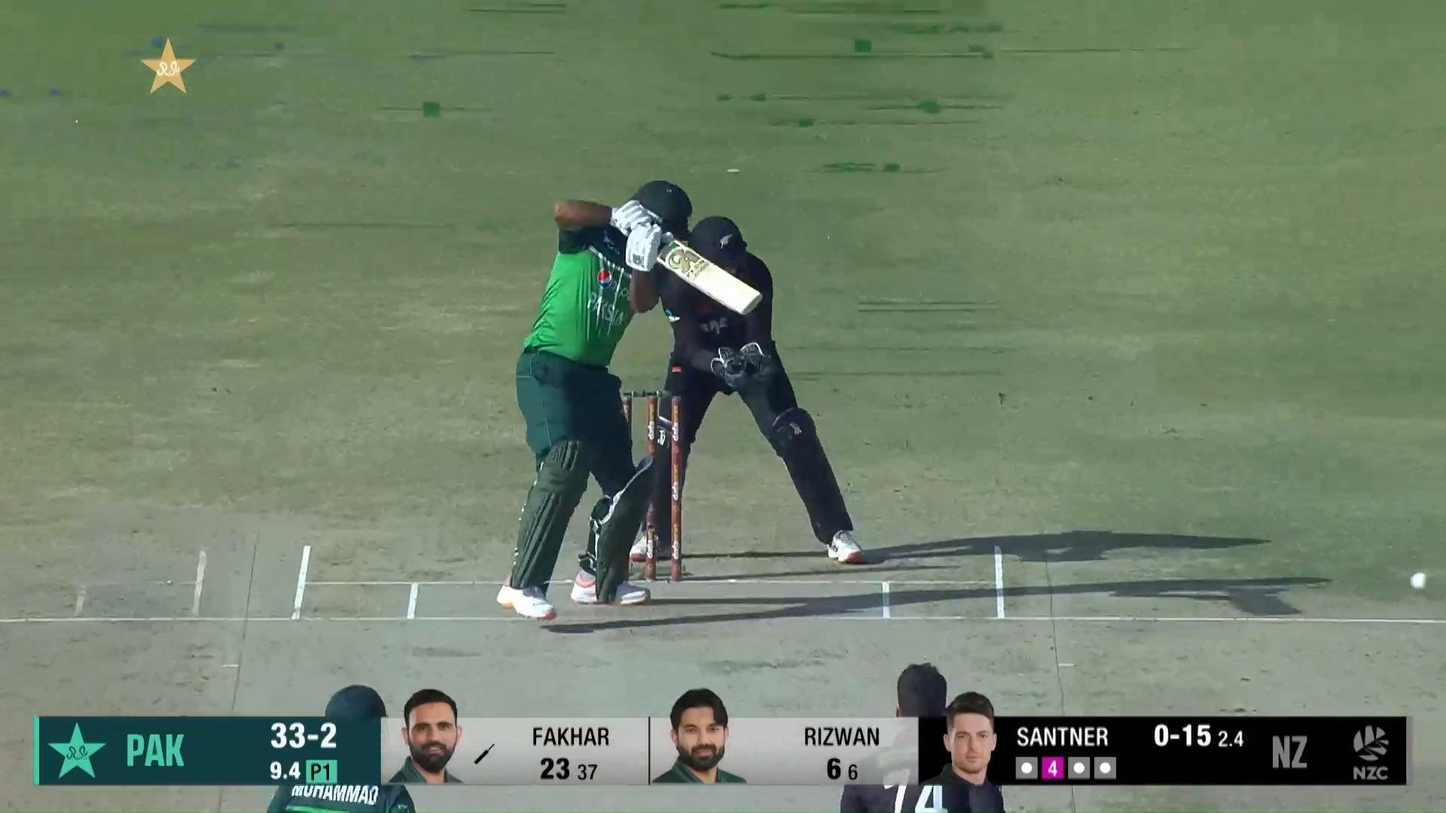BM 1: (496, 180, 762, 621)
BO: (838, 661, 1007, 813)
